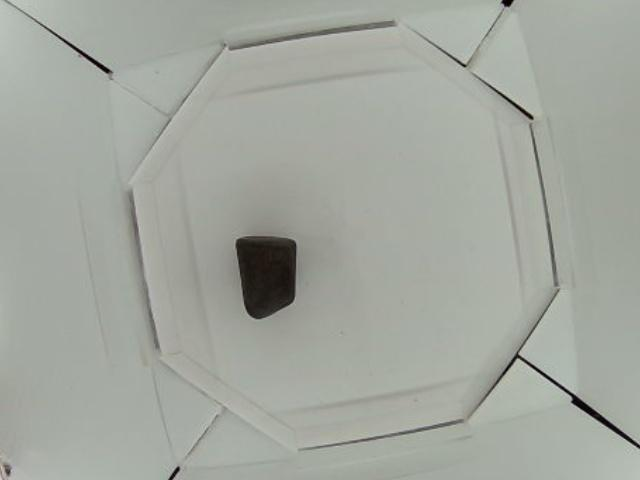Pebble: (239, 234, 295, 320)
